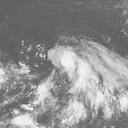cyclone: (48, 39, 120, 105)
